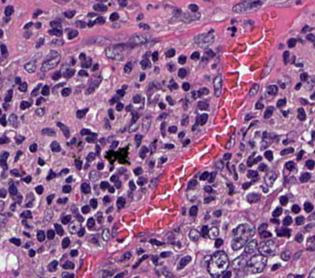nucleus: (231, 223, 254, 250), (233, 1, 262, 12), (194, 33, 213, 47), (105, 45, 123, 59), (41, 56, 59, 70), (85, 78, 100, 93), (129, 33, 147, 45), (57, 122, 69, 137), (213, 75, 221, 96), (264, 171, 276, 185), (189, 229, 200, 241), (90, 37, 108, 44), (43, 209, 52, 223), (247, 170, 258, 181), (31, 84, 41, 96), (142, 116, 150, 131), (246, 193, 259, 202), (276, 228, 290, 236), (266, 85, 277, 95), (76, 108, 87, 118), (69, 222, 80, 232), (208, 227, 218, 238), (264, 106, 273, 118), (93, 3, 106, 11), (280, 147, 293, 155), (140, 58, 150, 68), (50, 141, 60, 151), (53, 82, 64, 91), (249, 84, 258, 95), (81, 182, 90, 193), (116, 197, 125, 208), (54, 224, 63, 235), (41, 128, 55, 135), (307, 236, 314, 250), (297, 108, 305, 120), (139, 146, 147, 158), (81, 58, 91, 67), (198, 114, 207, 124), (86, 133, 96, 142), (46, 170, 56, 179), (89, 171, 99, 180), (300, 173, 310, 182), (272, 207, 281, 217), (64, 10, 75, 18), (48, 29, 62, 35), (135, 134, 142, 146), (231, 165, 237, 179), (102, 228, 109, 240), (205, 49, 214, 58), (128, 122, 137, 131), (285, 161, 294, 170), (258, 223, 267, 232), (67, 30, 77, 38), (64, 69, 74, 77), (41, 85, 49, 95), (198, 87, 208, 95), (61, 88, 71, 96), (198, 101, 208, 109), (264, 150, 272, 160), (304, 202, 312, 212), (61, 215, 71, 223), (150, 239, 163, 245), (131, 111, 138, 122), (87, 217, 94, 228), (201, 225, 208, 236), (37, 230, 44, 241), (260, 231, 271, 238), (62, 237, 69, 248), (287, 38, 295, 47), (51, 39, 63, 45), (283, 51, 289, 63), (178, 68, 186, 77), (169, 80, 177, 89), (200, 171, 208, 180), (137, 177, 146, 185), (100, 181, 109, 189), (279, 196, 287, 205), (189, 206, 197, 215), (283, 216, 291, 225), (50, 21, 60, 28), (124, 63, 131, 73), (226, 138, 233, 148), (296, 150, 303, 160), (208, 172, 215, 182), (47, 229, 54, 239), (80, 128, 91, 134), (96, 212, 102, 223), (110, 12, 118, 20), (191, 51, 199, 59), (52, 71, 60, 79), (133, 94, 141, 102), (36, 97, 44, 105), (277, 99, 285, 107), (86, 153, 94, 161), (188, 180, 196, 188), (35, 185, 43, 193), (295, 216, 303, 224), (95, 17, 104, 24), (36, 38, 43, 47), (29, 143, 36, 152), (306, 160, 313, 169), (242, 182, 251, 189), (46, 194, 53, 203), (139, 23, 149, 29), (108, 109, 114, 119), (90, 198, 96, 208), (189, 4, 197, 11), (33, 10, 41, 17), (306, 33, 313, 41), (166, 49, 174, 56), (178, 55, 185, 63), (300, 73, 307, 81), (182, 82, 189, 90), (110, 96, 118, 103), (166, 96, 173, 104), (116, 102, 123, 110), (216, 161, 223, 169), (258, 163, 266, 170), (134, 167, 142, 174), (292, 204, 299, 212), (82, 205, 89, 213), (75, 213, 82, 221), (77, 228, 84, 236), (295, 234, 302, 242), (215, 238, 222, 246), (228, 183, 233, 194), (76, 21, 85, 27), (181, 116, 187, 125), (129, 181, 135, 190), (204, 196, 213, 202), (161, 122, 165, 135), (57, 198, 67, 203), (117, 89, 124, 96), (36, 108, 43, 115), (223, 153, 230, 160), (254, 156, 261, 163), (110, 175, 117, 182), (63, 185, 70, 192), (103, 196, 110, 203), (119, 0, 127, 6), (168, 126, 176, 132), (75, 160, 81, 168), (204, 186, 212, 192), (79, 53, 85, 60), (255, 102, 262, 108), (111, 141, 117, 148), (38, 158, 44, 165), (97, 162, 103, 169), (152, 52, 157, 60), (79, 70, 87, 75), (60, 168, 68, 173), (92, 64, 98, 70), (105, 120, 109, 129), (183, 139, 189, 145), (95, 145, 99, 154), (66, 176, 72, 182), (108, 186, 114, 192), (214, 210, 220, 216), (168, 64, 173, 71), (191, 91, 196, 98), (159, 113, 166, 118), (245, 115, 252, 120), (239, 164, 244, 171), (115, 180, 120, 187), (271, 218, 278, 223), (165, 144, 173, 148), (88, 21, 94, 26), (70, 58, 75, 64), (295, 83, 300, 89), (159, 102, 164, 108), (140, 73, 144, 80), (300, 99, 307, 103), (137, 14, 142, 19), (35, 22, 40, 27), (302, 26, 307, 31), (179, 132, 184, 137), (107, 207, 112, 212), (310, 93, 314, 99), (122, 85, 126, 90), (88, 13, 94, 16), (127, 106, 131, 110), (282, 111, 286, 115)
